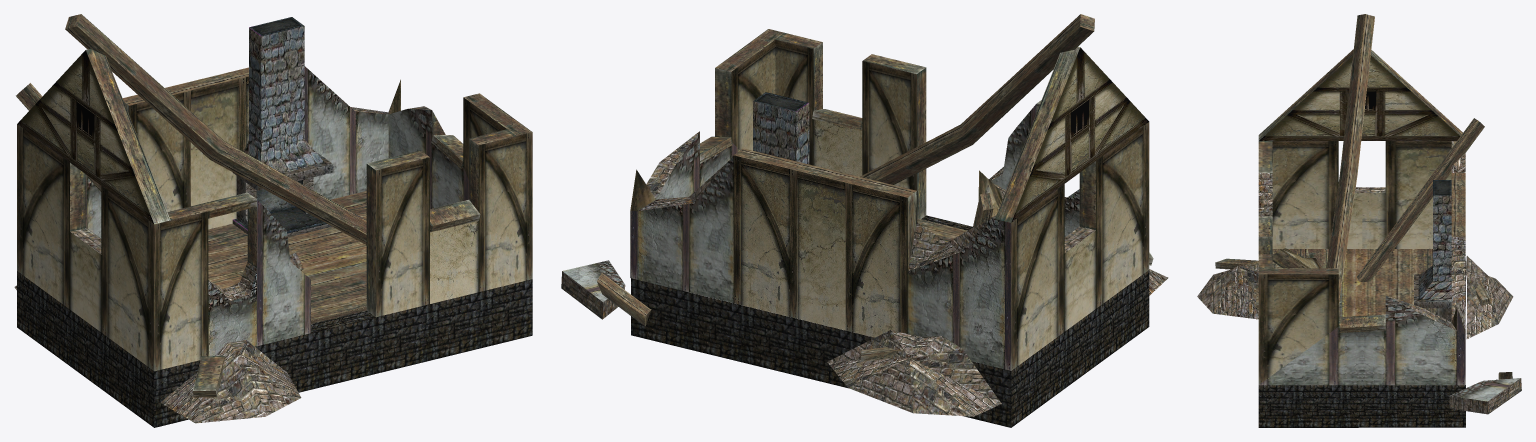
File: S_Ruin02.glb
3 renders of one model, left to right at view 1: azimuth 30°, elevation 25°; view 2: azimuth 150°, elevation 25°; view 3: azimuth 270°, elevation 25°, orthographic. The views are drawn at different scales.
Visible parts, largest first — view 1: S_Ruin02-col; view 2: S_Ruin02-col; view 3: S_Ruin02-col.
Part boxes in pixels (left/top/right/bottom): S_Ruin02-col: left=14, top=14, right=532, bottom=427; S_Ruin02-col: left=561, top=14, right=1168, bottom=427; S_Ruin02-col: left=1197, top=14, right=1521, bottom=427.
Bounding box in the file's own units: 8.31 × 6.42 × 6.9.
Materials: 12 (12 with a texture image).
